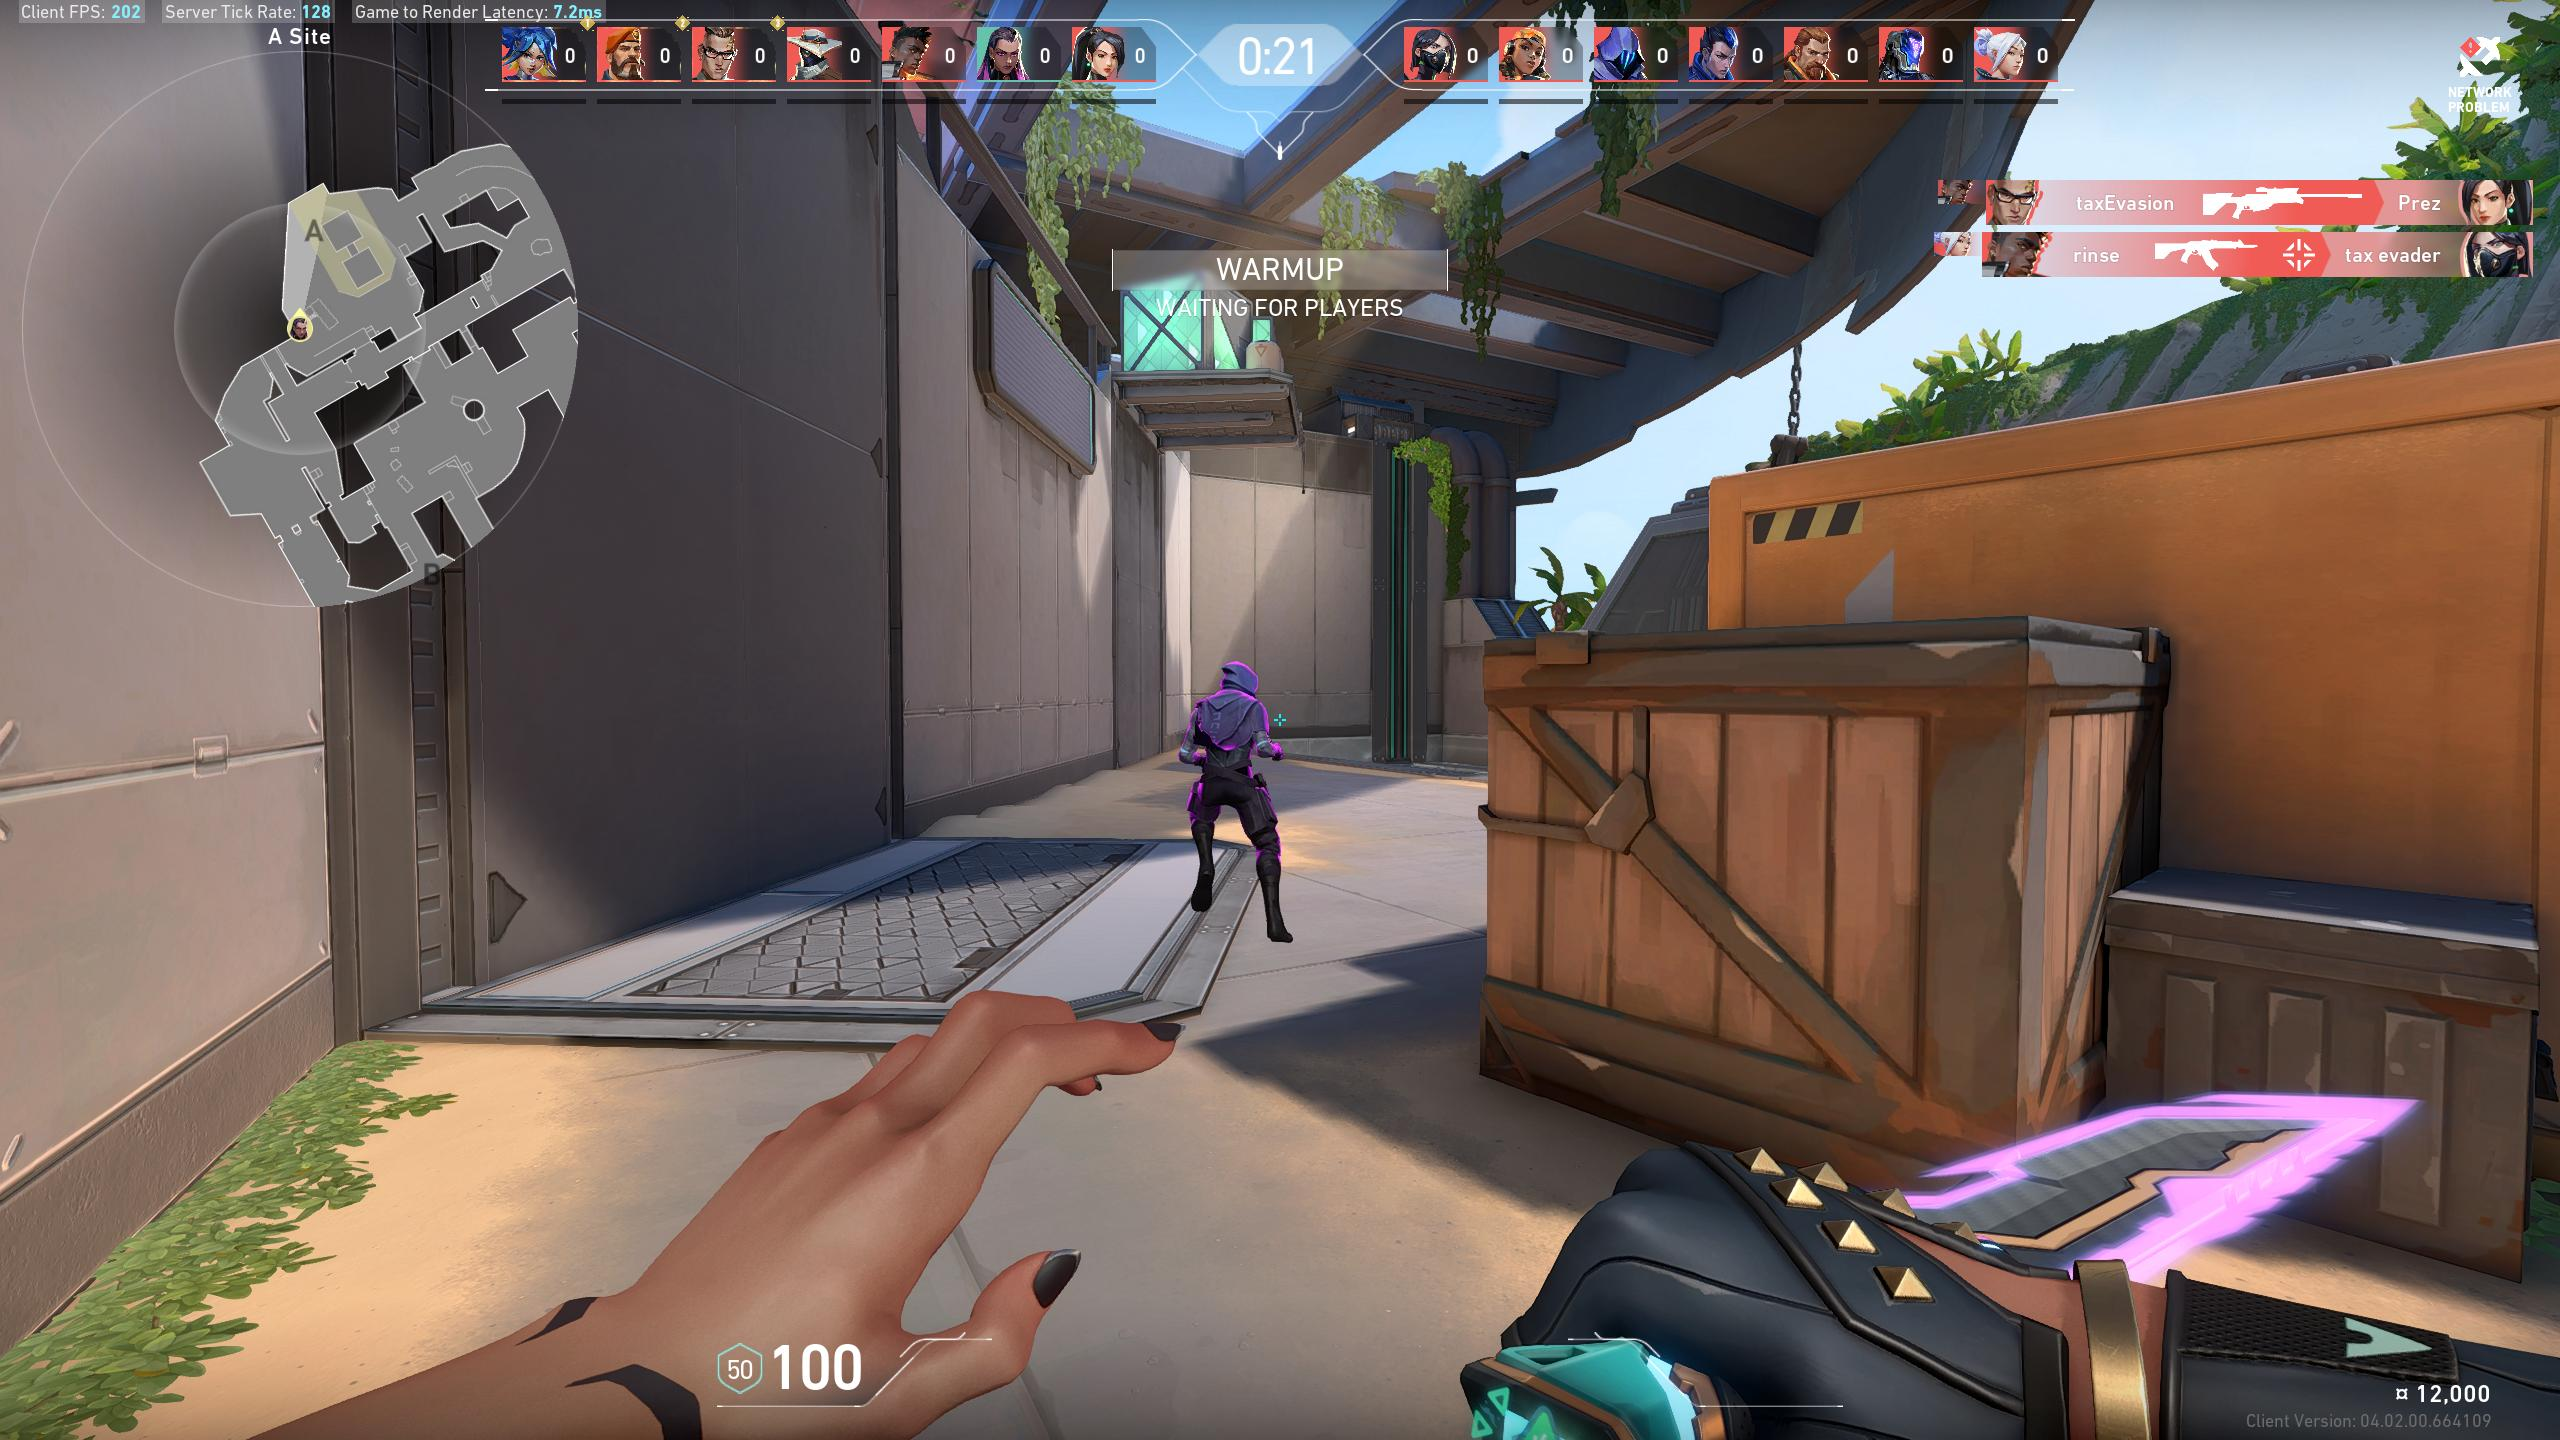enemyBody: (1211, 696, 1252, 774)
enemyHead: (1227, 673, 1254, 691)
